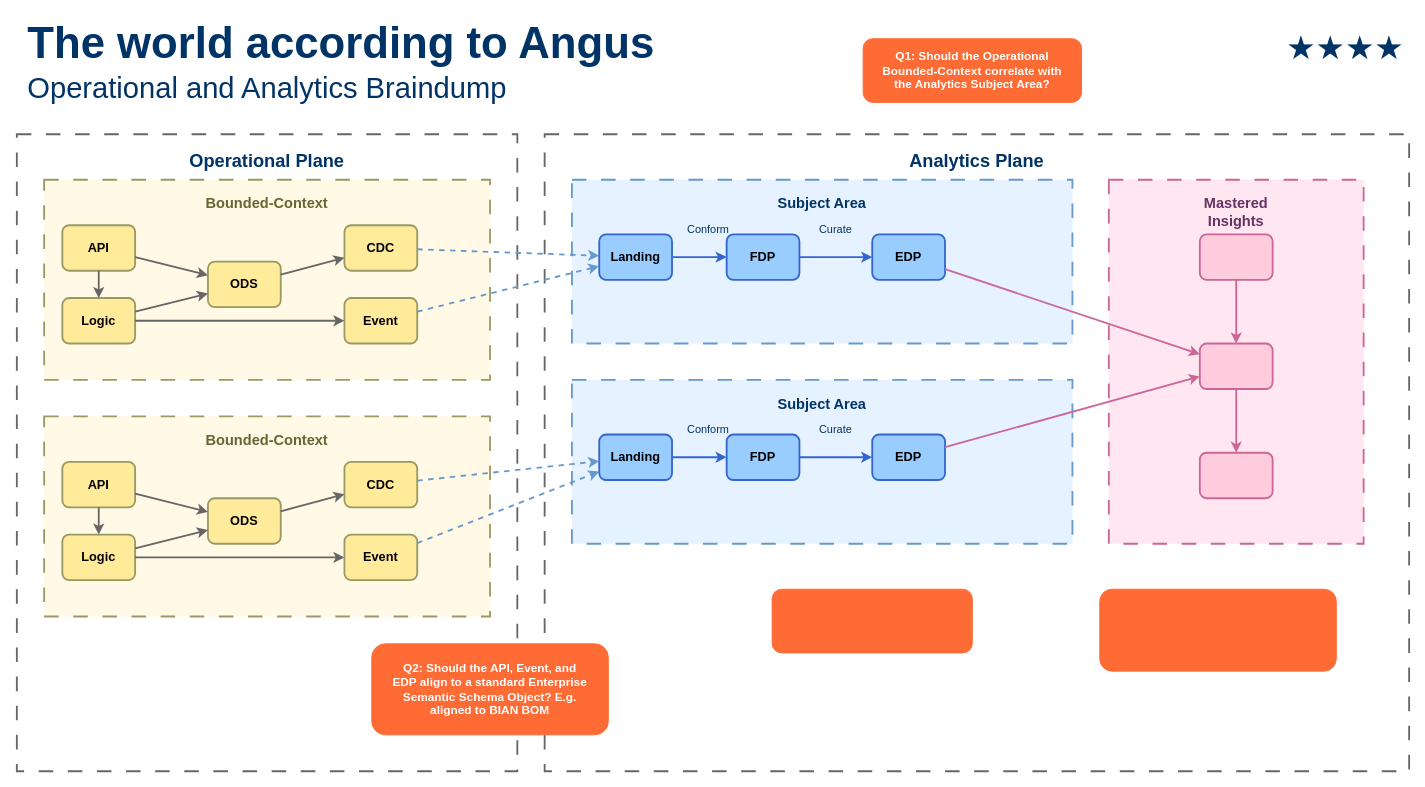
The diagram is 1425 pixels wide and 787 high, and some of its shapes have lost their labels. Here are the shapes that lost their labels. From the top down, the centre of each, then its label:
At (x=1235, y=256): "Event?".
At (x=1235, y=365): "BDP".
At (x=1235, y=475): "File?".
At (x=871, y=620): "Q3: Can a EDP be populated directly from a Business Event?".
At (x=1217, y=629): "Q4: How do the insights created in analytics get back to operations?".
